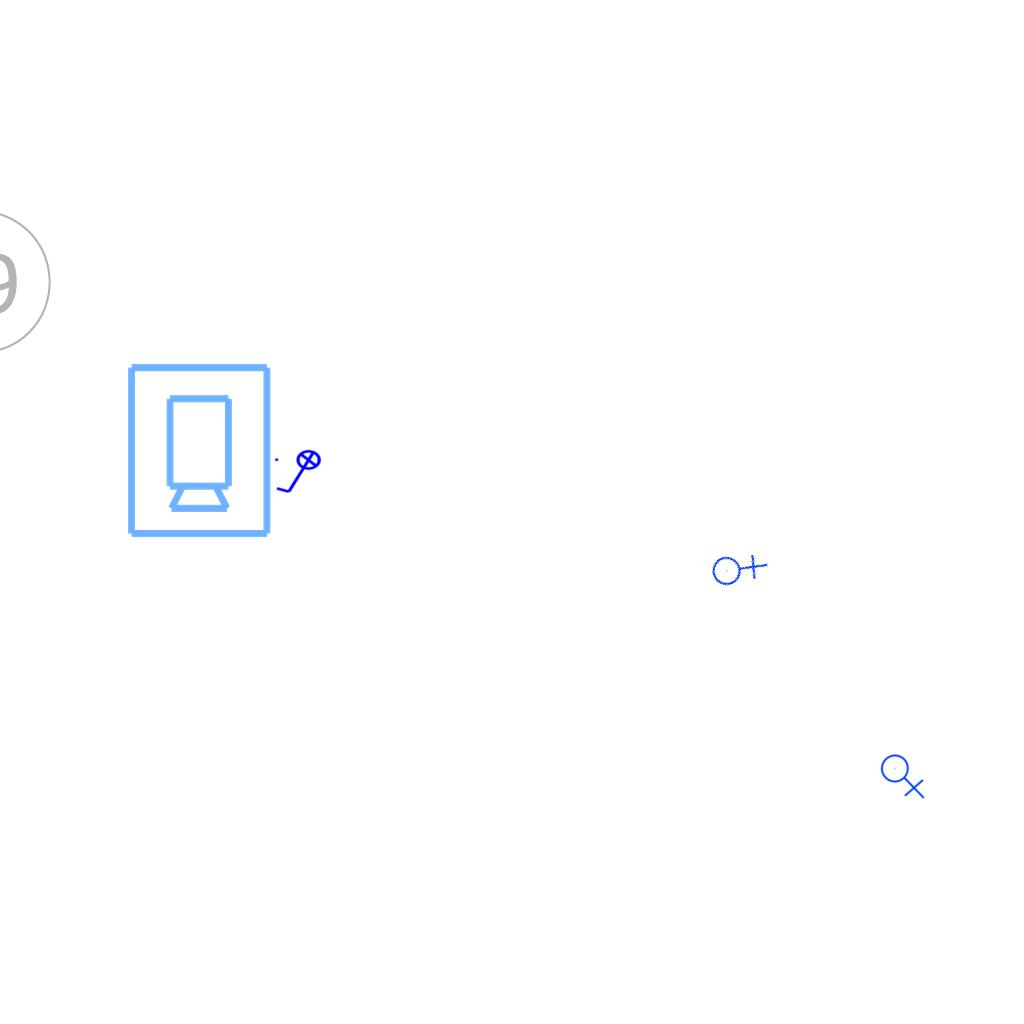Ausschalter_beleuchtet: (272, 449, 328, 497)
Elektroanschluss_allgemein_230V_Geraeteanschlussdose_230V: (702, 534, 771, 601), (880, 750, 927, 799)
KFO_Kamera_mit_Festobjektiv: (121, 359, 275, 541)
